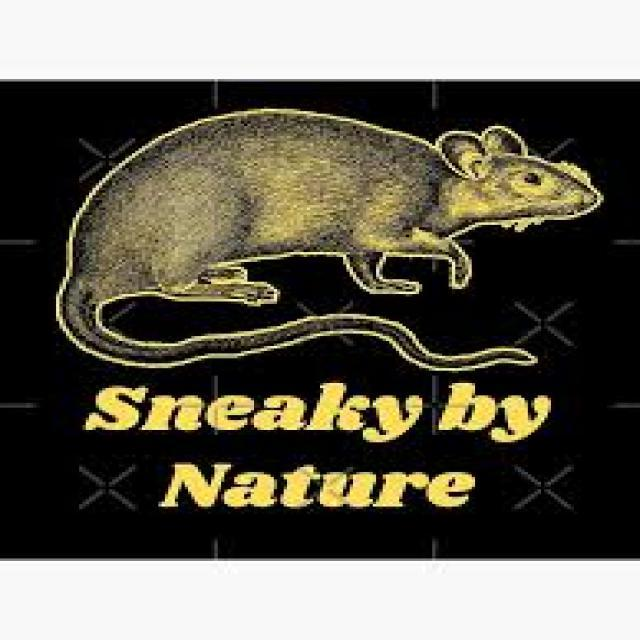Rat: (26, 91, 640, 384)
